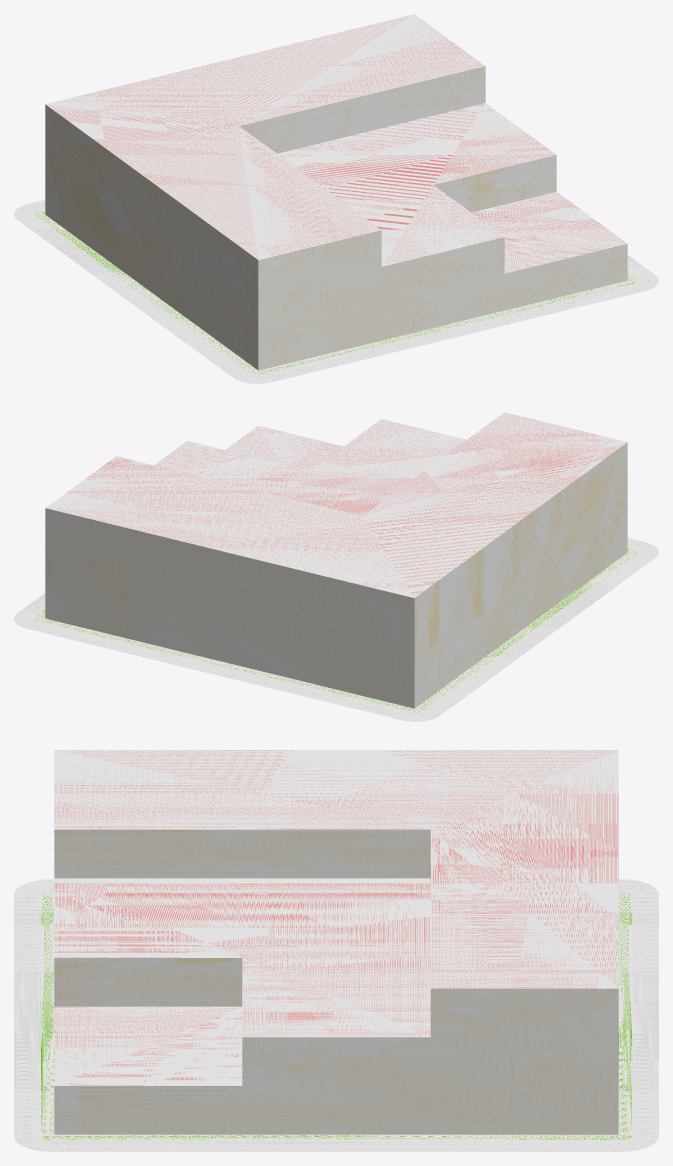
File: building01.dae
3 views of the same model, one above another, from view 1: azimuth 30°, elevation 25°; view 2: azimuth 150°, elevation 25°; view 3: azimuth 270°, elevation 25° (orthographic). The views are drawn at different scales.
Visible parts, largest first — view 1: SketchUp (×6); view 2: SketchUp (×6); view 3: SketchUp (×6).
Part boxes in pixels (x1,y1,x2,y2): SketchUp (×6): (14, 14, 658, 383); SketchUp (×6): (14, 412, 658, 721); SketchUp (×6): (14, 750, 658, 1151).
Bounding box in the file's own units: 48 × 48 × 12.
